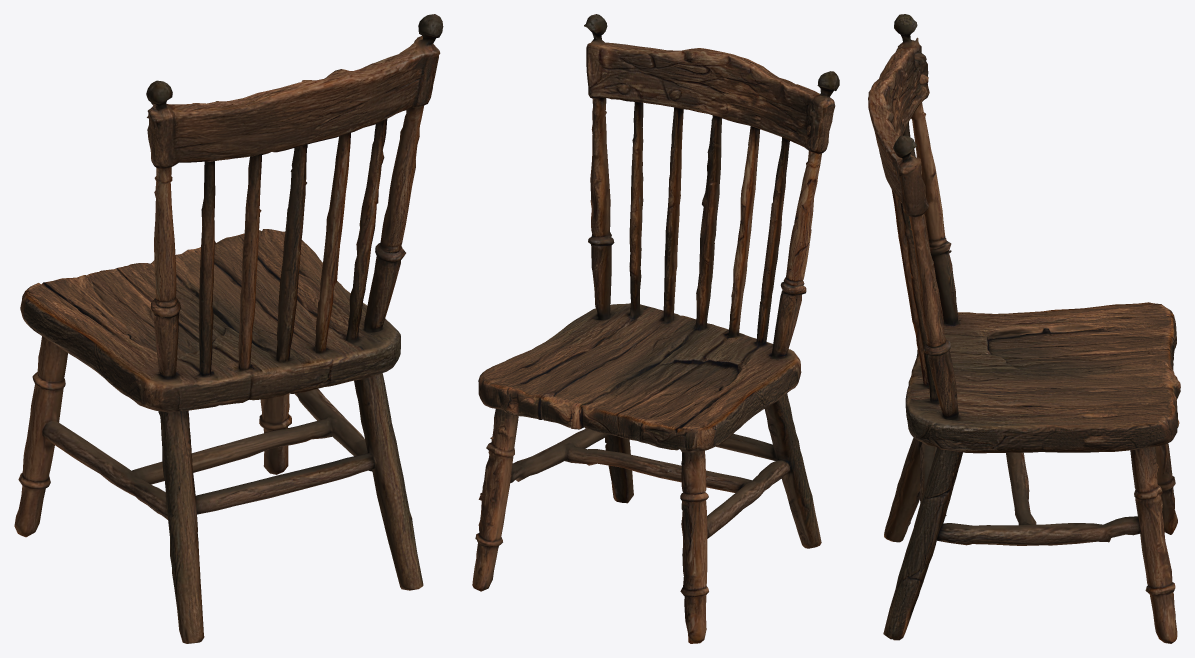
Rendered from scene-chair-spindle-v03.glb.
3 renders of one model, left to right at view 1: azimuth 30°, elevation 25°; view 2: azimuth 150°, elevation 25°; view 3: azimuth 270°, elevation 25°, orthographic. The views are drawn at different scales.
Parts seen in each view (by area): view 1: tripo_node_50c14f26-3565-405c-9de7-9d29aa2250e9; view 2: tripo_node_50c14f26-3565-405c-9de7-9d29aa2250e9; view 3: tripo_node_50c14f26-3565-405c-9de7-9d29aa2250e9.
Boxes of the visible parts, x1,y1,x2,y2 form: tripo_node_50c14f26-3565-405c-9de7-9d29aa2250e9: [14, 14, 443, 643]; tripo_node_50c14f26-3565-405c-9de7-9d29aa2250e9: [472, 14, 839, 643]; tripo_node_50c14f26-3565-405c-9de7-9d29aa2250e9: [868, 14, 1180, 643].
Bounding box in the file's own units: 0.5177 × 0.95 × 0.5242.
Materials: 1 (1 with a texture image).
